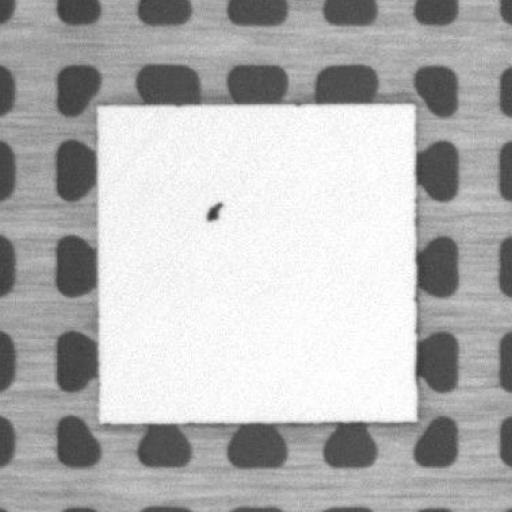DIE_INK: (205, 201, 222, 222)
